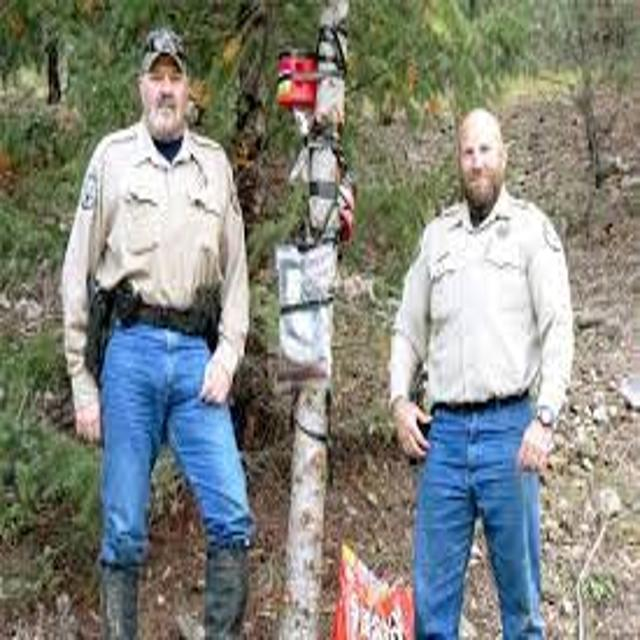poacher: (28, 11, 298, 640), (322, 92, 615, 640)
